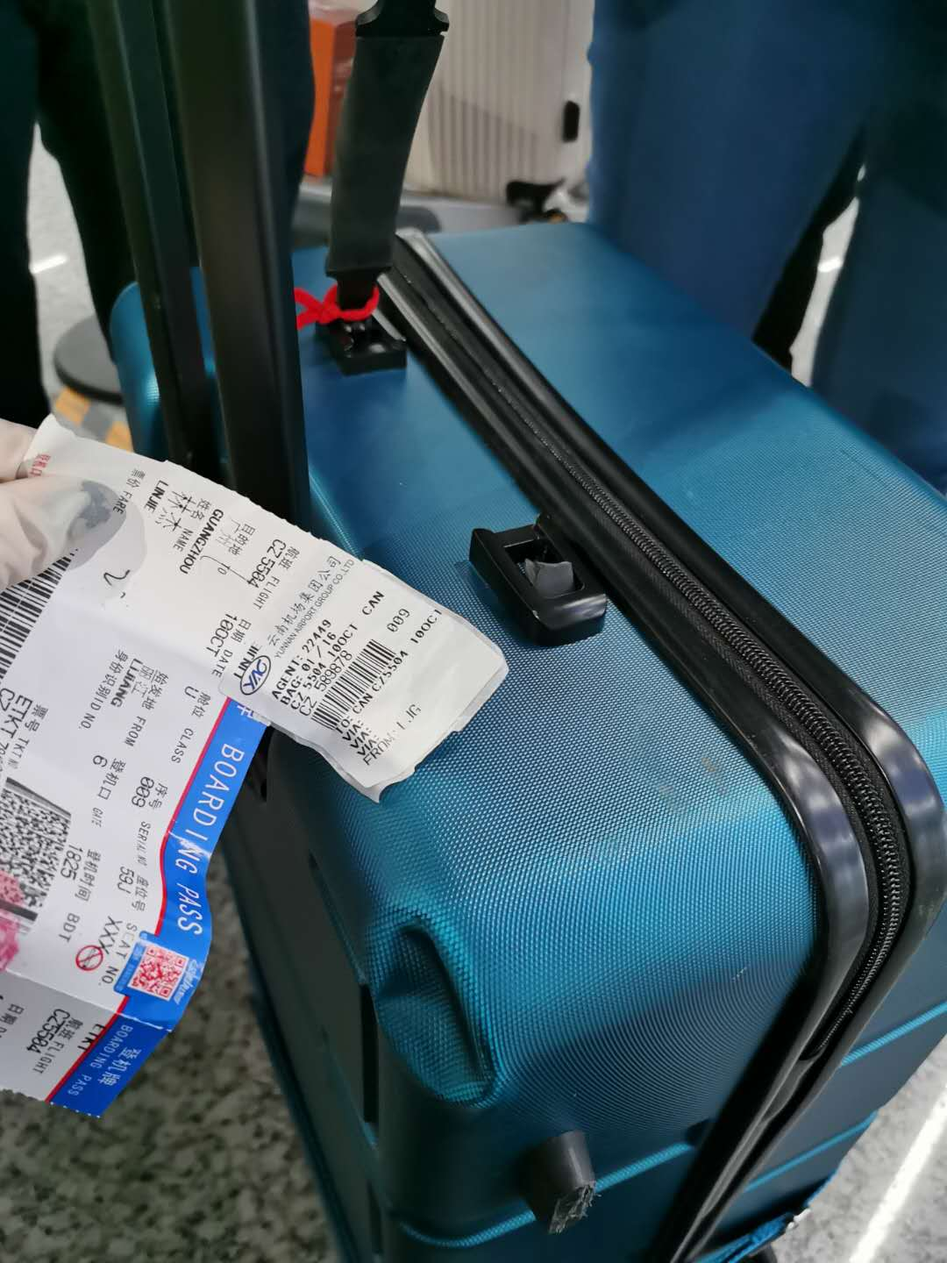rupture: (372, 901, 512, 1112)
